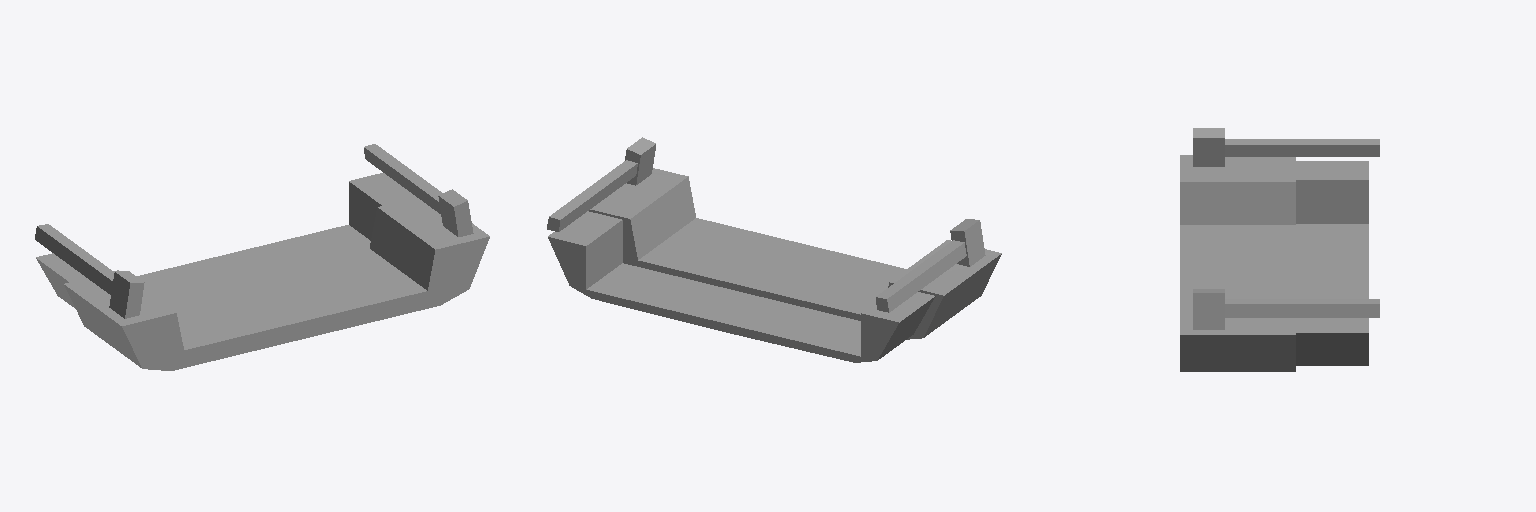
File: race-track.obj
3 renders of one model, left to right at view 1: azimuth 30°, elevation 25°; view 2: azimuth 150°, elevation 25°; view 3: azimuth 270°, elevation 25°, orthographic.
Visible parts, largest first — view 1: Box; view 2: Box; view 3: Box.
Part boxes in pixels (x1,y1,x2,y2): Box: (35, 144, 489, 370); Box: (547, 137, 1001, 362); Box: (1180, 128, 1379, 371).
Size of the model in its own units: 7.55 by 1.79 by 3.55.